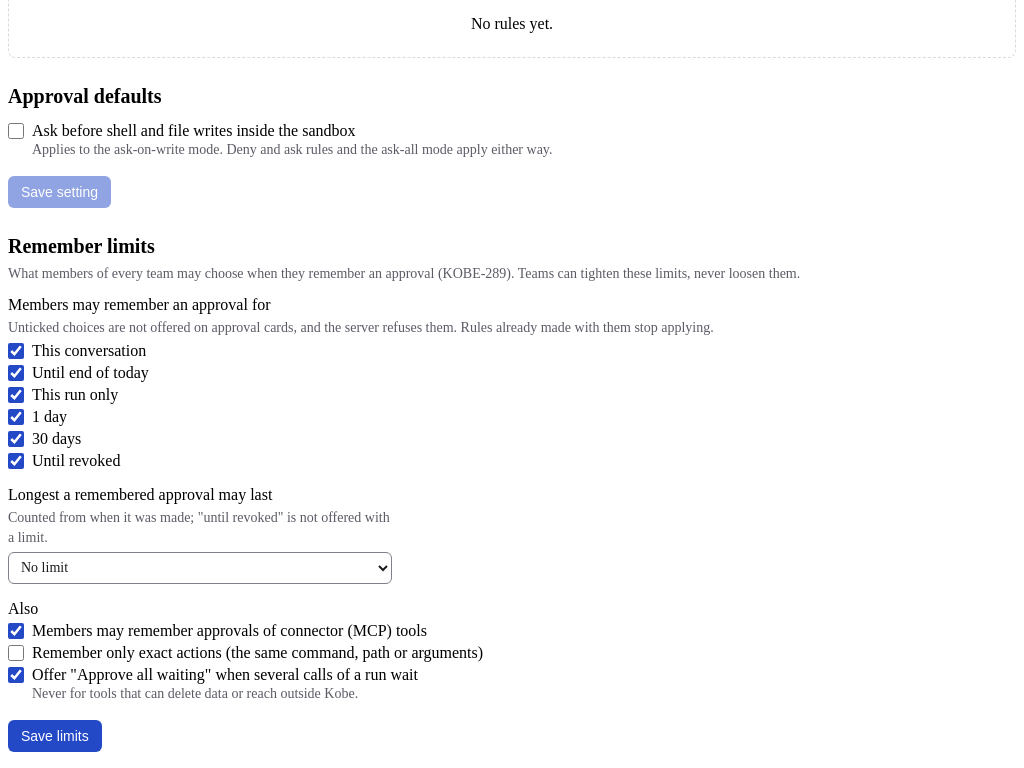
Test: Members' remembered approvals and remember limits (KOBE-289) › the site floor saves its limits
(page scrolled)
Click the checkbox labelled "only exact actions" at (16,652), box [8,644,24,660]
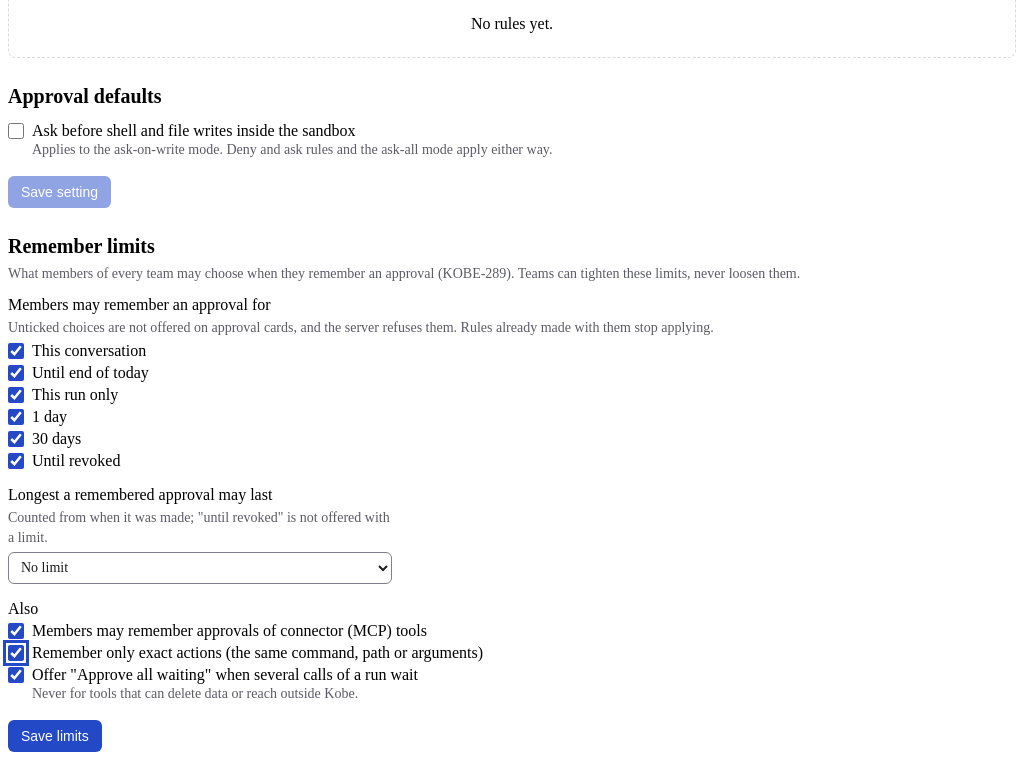
Select "8 hours" in the dropdown labelled "Longest a remembered approval may last" at (200,568), box [8,552,392,584]
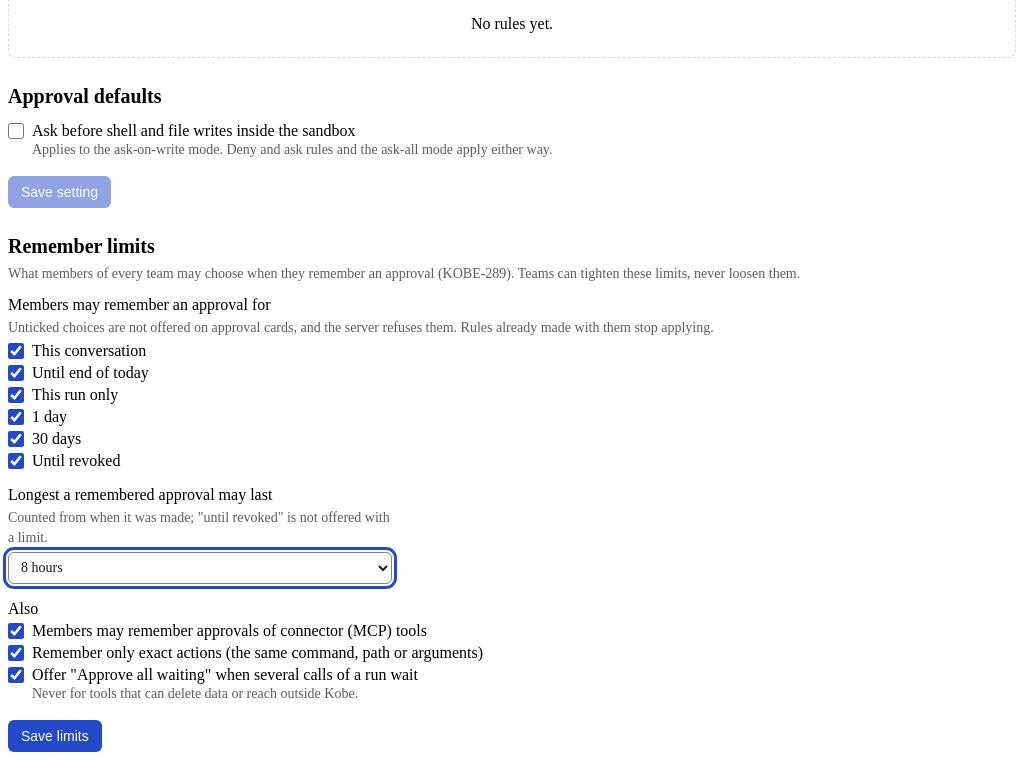
Click the button "Save limits" at (55,736), box [8,720,102,752]
(page scrolled)
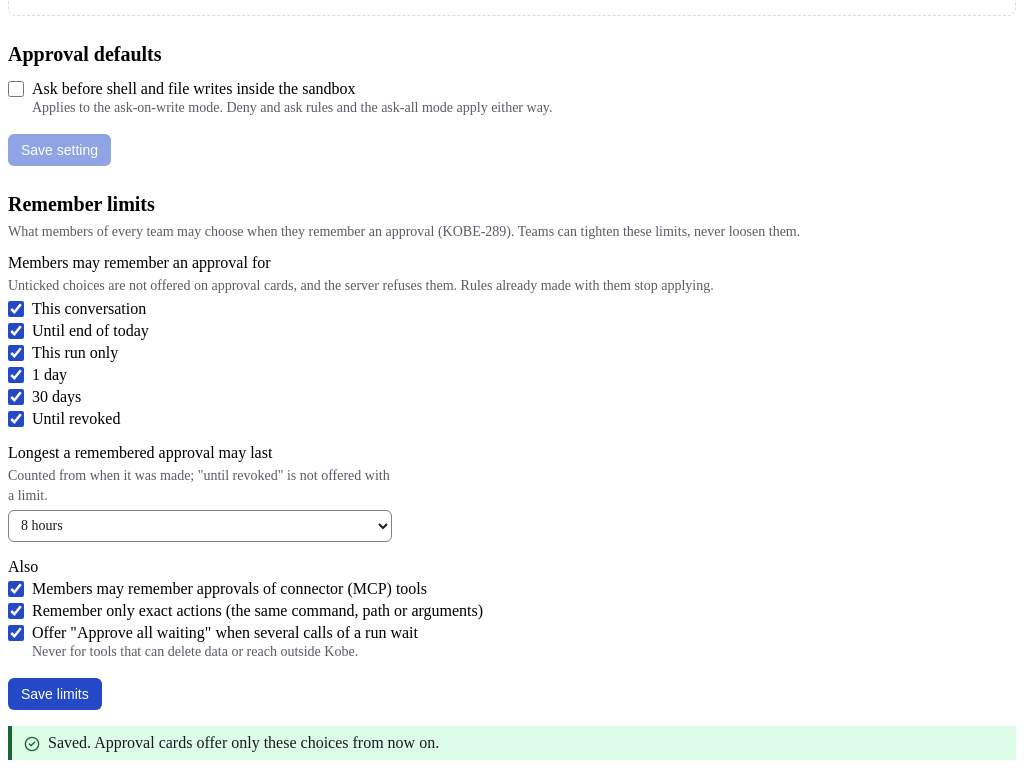
Now the text "Saved. Approval cards offer only these choices from now on." is shown, box [48,734,439,750]
